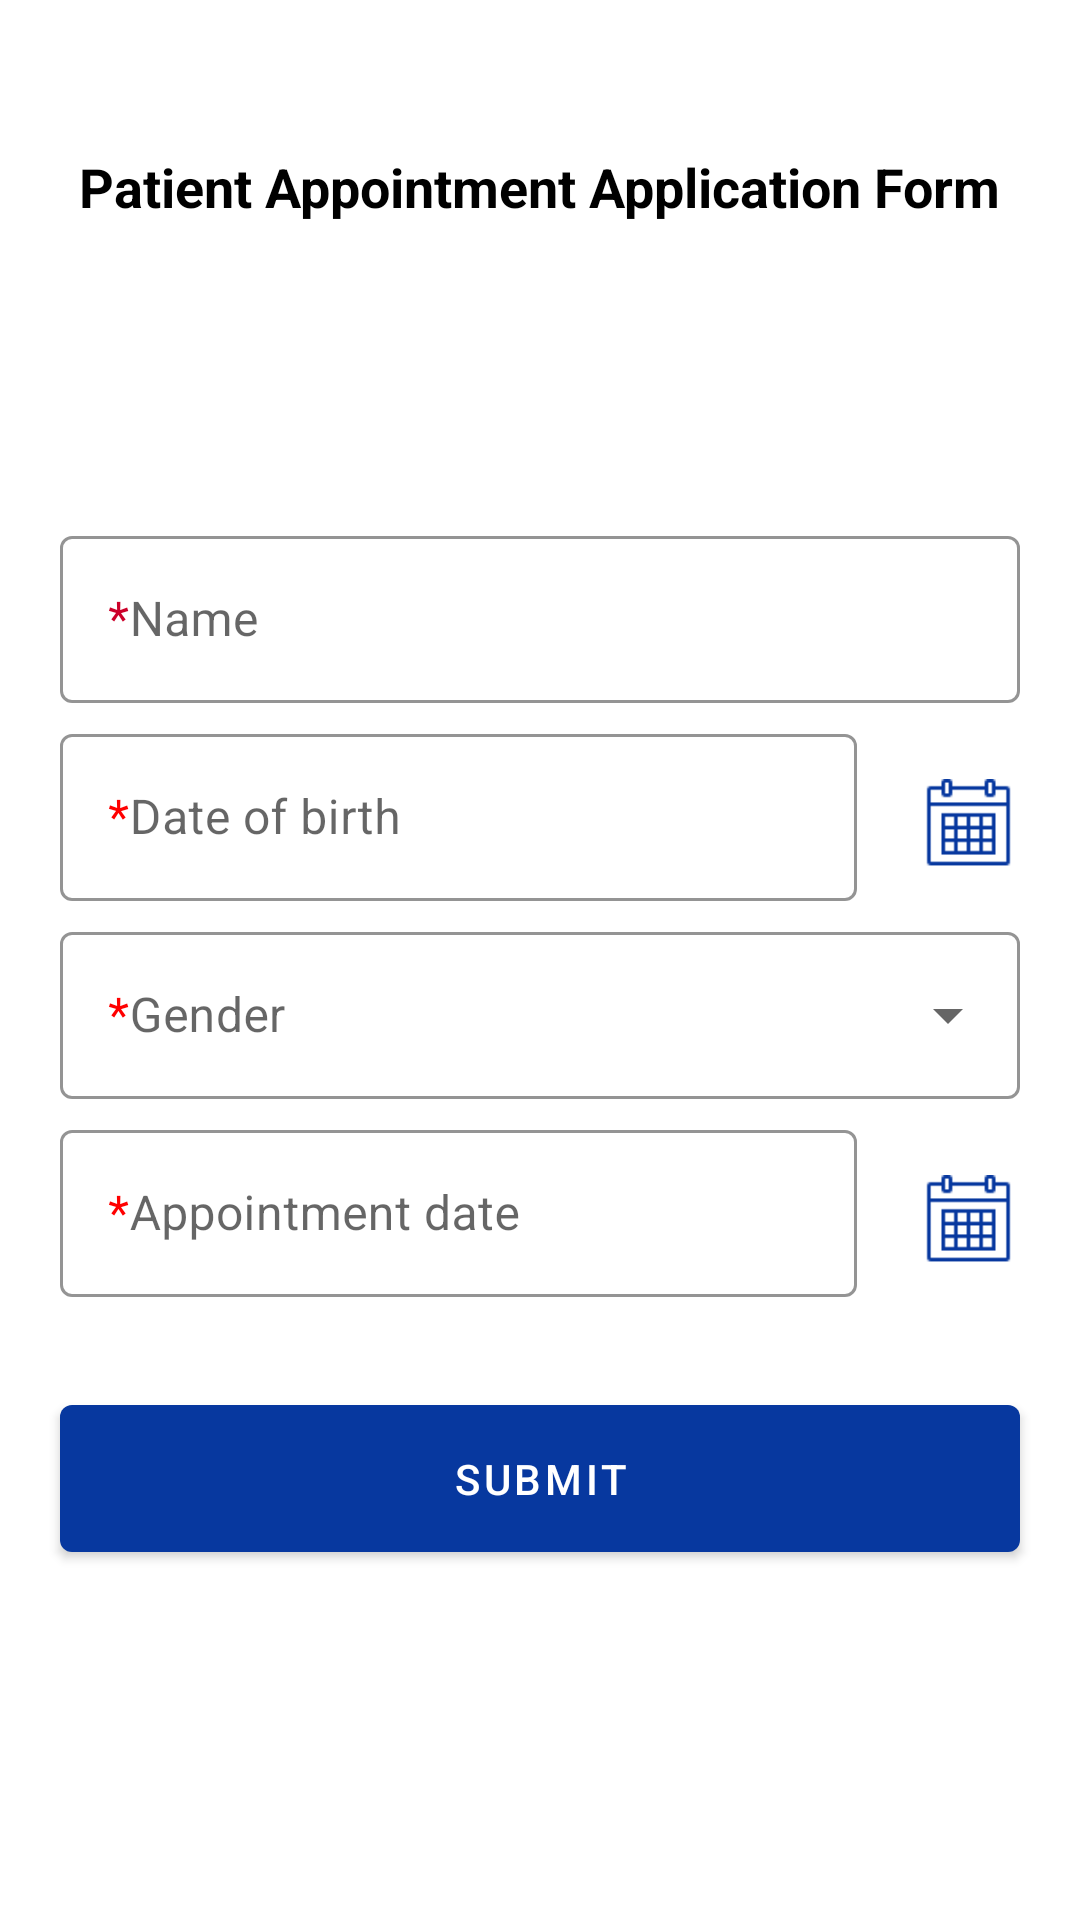

Icon click points for this 1080 × 1920 phone screenshot, format point (x, y):
calendar: point (968, 822), point (968, 1218)
